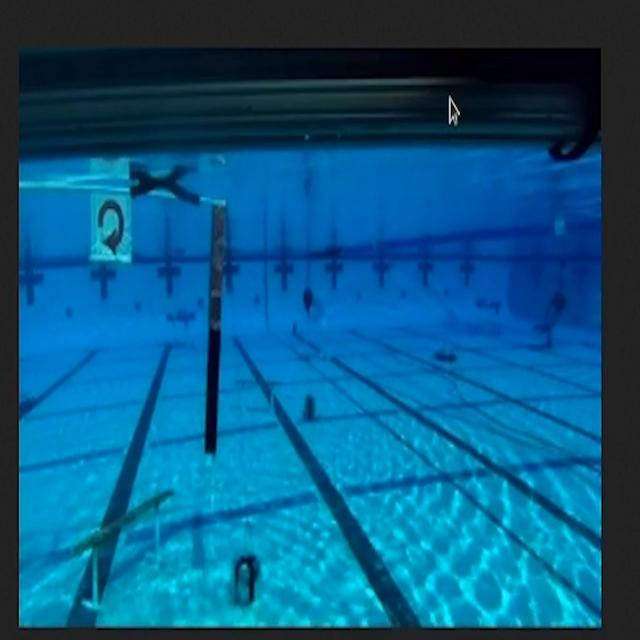Gate: (19, 165, 240, 471)
Path: (62, 484, 180, 615)
